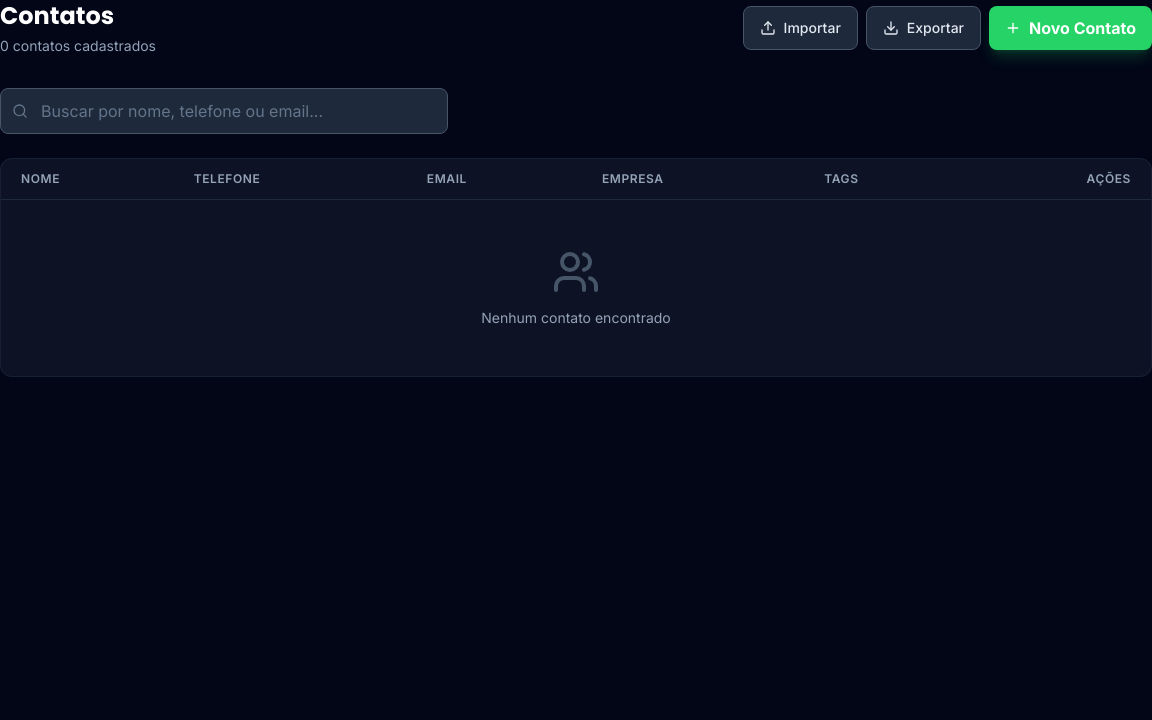
Test case: ContactsPage › should open modal when clicking Novo Contato
The width and height of the screenshot is (1152, 720).
Click the button "Novo Contato".
click(1070, 28)  # box x1=989 y1=6 x2=1151 y2=50
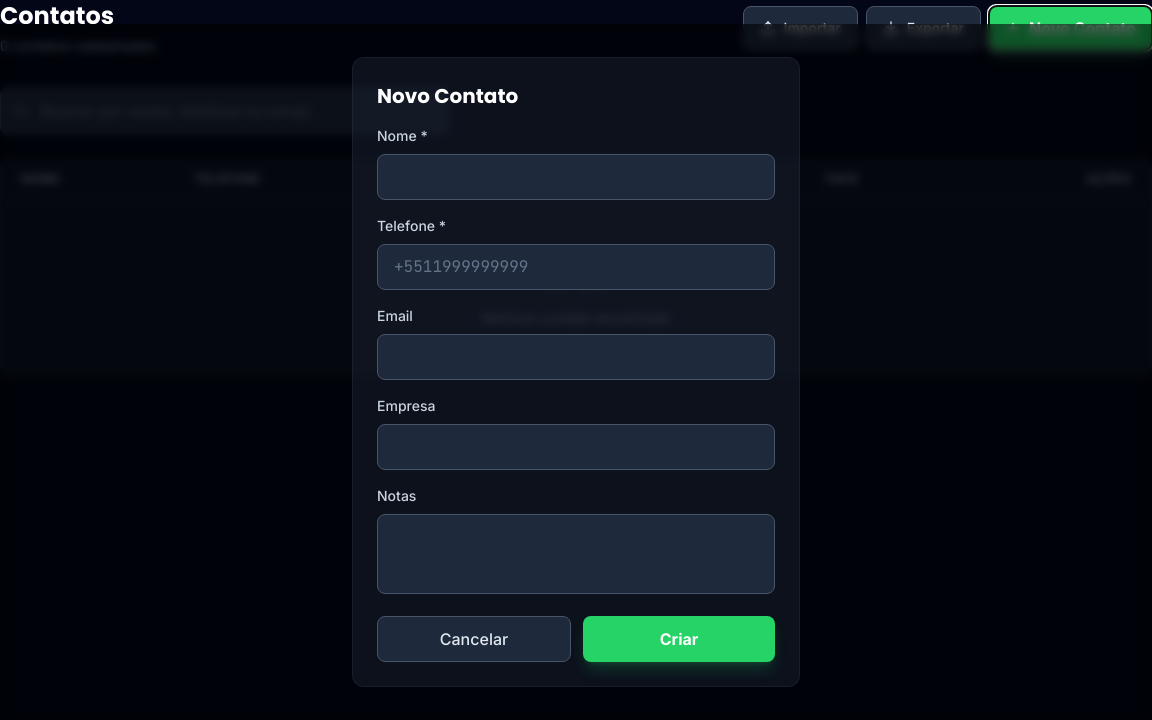
Now the field labelled "Nome *" is shown, box x1=377 y1=154 x2=775 y2=200
Now the field labelled "Telefone *" is shown, box x1=377 y1=244 x2=775 y2=290
